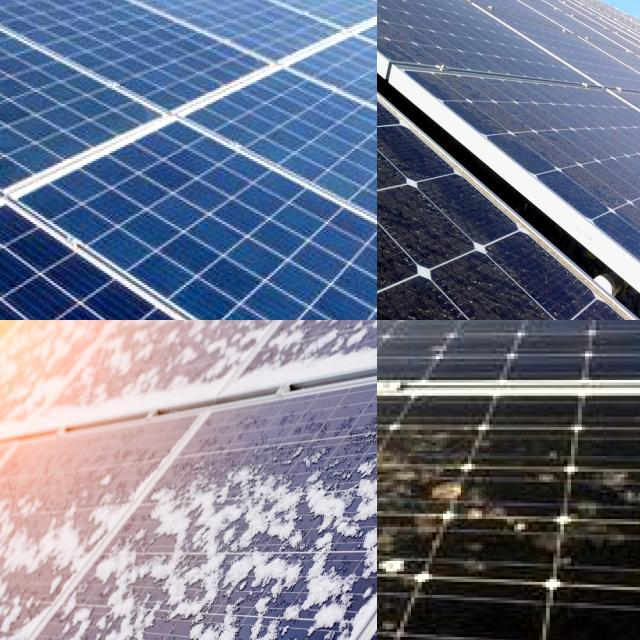bird: (377, 482, 432, 524), (377, 542, 421, 584), (424, 474, 482, 500), (377, 430, 417, 466), (454, 630, 533, 640)
crack: (0, 120, 377, 320), (0, 156, 377, 320), (181, 0, 377, 312), (0, 0, 175, 200), (0, 0, 279, 125), (0, 0, 273, 120), (71, 0, 348, 88), (281, 0, 377, 175)
dust: (377, 56, 461, 134), (377, 136, 478, 196), (381, 181, 458, 251), (457, 261, 542, 320), (377, 229, 431, 320), (377, 211, 411, 290), (377, 251, 410, 320), (403, 294, 461, 320), (377, 76, 402, 129)
panel: (36, 320, 154, 432), (133, 458, 254, 562), (270, 453, 362, 561), (152, 320, 251, 398), (34, 493, 134, 562), (270, 320, 372, 381), (96, 569, 179, 640), (0, 320, 43, 445), (0, 521, 49, 630), (276, 572, 347, 640), (191, 577, 265, 640)
